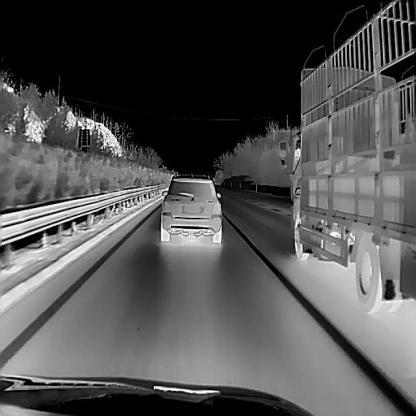car: (279, 0, 416, 314), (161, 172, 222, 242)
